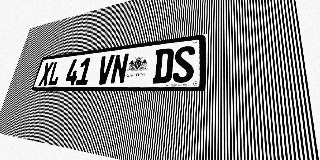1: (75, 57, 93, 85)
4: (64, 59, 81, 85)
D: (152, 48, 174, 83)
L: (47, 61, 63, 86)
N: (110, 53, 129, 84)
S: (172, 45, 195, 83)
V: (96, 55, 115, 85)
X: (38, 62, 54, 86)
